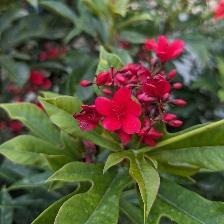jatropha: (97, 86, 144, 136)
